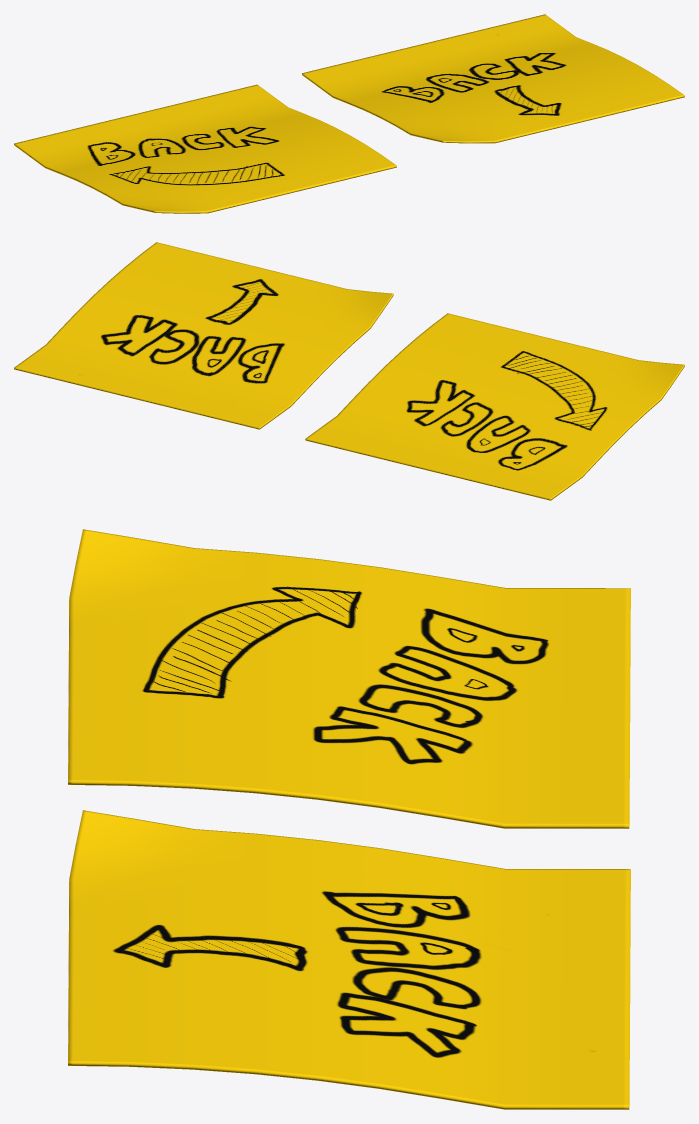
The model's file is postIt_back.fbx.
The picture shows the model from 3 angles, top to bottom: view 1: azimuth 30°, elevation 25°; view 2: azimuth 150°, elevation 25°; view 3: azimuth 270°, elevation 25°; orthographic projection. The views are drawn at different scales.
Parts seen in each view (by area): view 1: postIt_BackLoupe, postIt_BackBanc; view 2: postIt_BackLoupe, postIt_BackBanc; view 3: postIt_BackBanc, postIt_BackLoupe.
Part boxes in pixels (bbox=[...]): postIt_BackLoupe: bbox=[302, 14, 684, 143]; postIt_BackBanc: bbox=[14, 84, 396, 213]; postIt_BackLoupe: bbox=[14, 242, 393, 429]; postIt_BackBanc: bbox=[305, 313, 684, 500]; postIt_BackBanc: bbox=[68, 529, 630, 828]; postIt_BackLoupe: bbox=[68, 810, 630, 1109].
Bounding box in the file's own units: 69.62 × 4.17 × 31.94.
